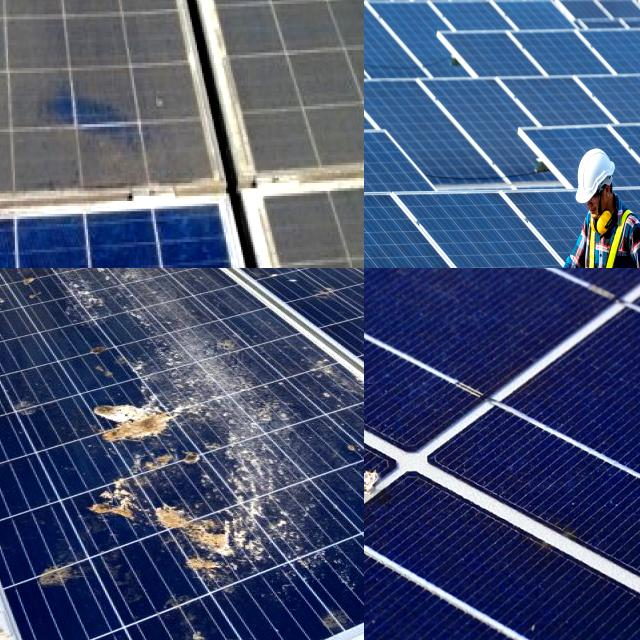bird: (75, 474, 292, 578), (364, 403, 477, 582), (69, 390, 211, 452), (196, 268, 263, 306), (114, 268, 187, 293), (27, 268, 101, 290), (0, 268, 39, 305)
crack: (407, 179, 599, 268), (364, 178, 455, 268), (364, 187, 463, 268), (364, 116, 443, 217), (364, 130, 452, 210)
dust: (0, 0, 196, 97), (35, 114, 224, 200), (221, 50, 364, 144), (0, 0, 92, 110), (0, 116, 106, 210), (263, 179, 364, 242), (217, 0, 364, 33)
